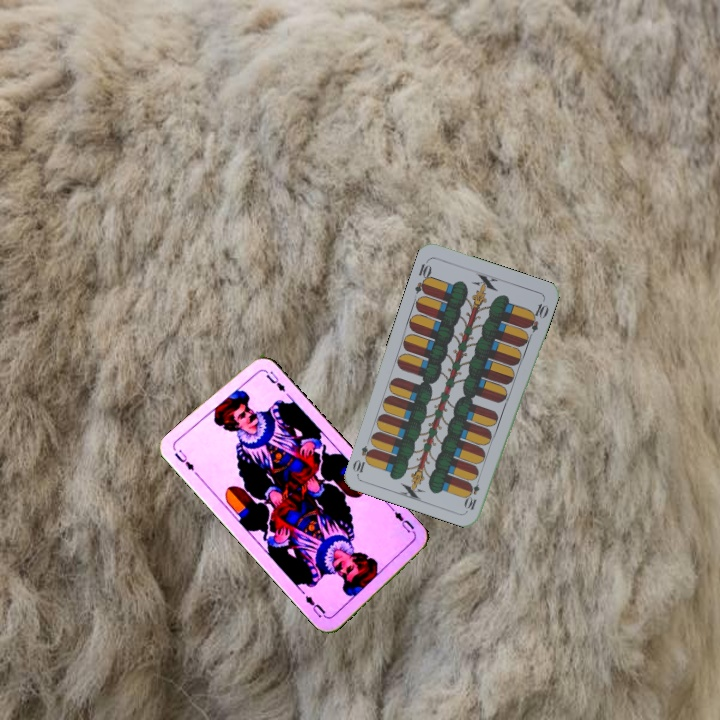E10: (411, 256, 434, 297), (462, 472, 483, 512)
EU: (388, 505, 419, 539), (170, 446, 197, 473)
